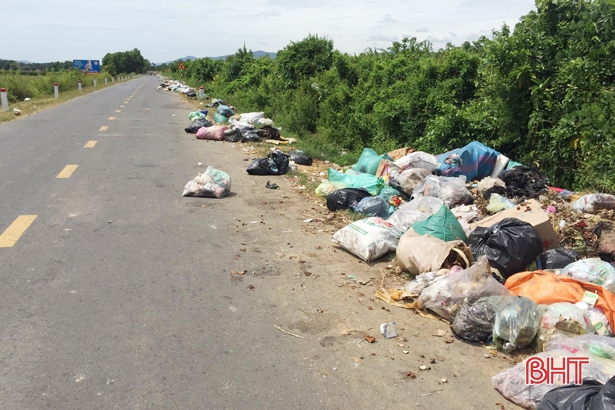plastic bag: (315, 138, 615, 410), (184, 101, 281, 144), (247, 147, 313, 176), (183, 165, 232, 199)
